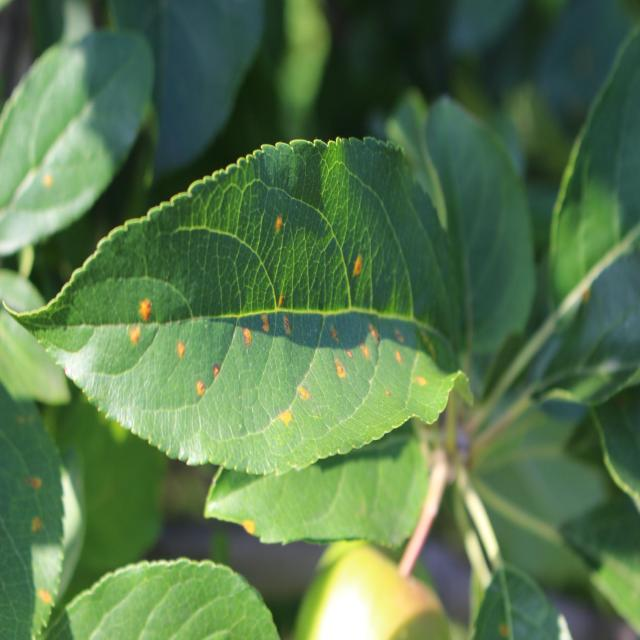rust: (2, 135, 476, 478)
